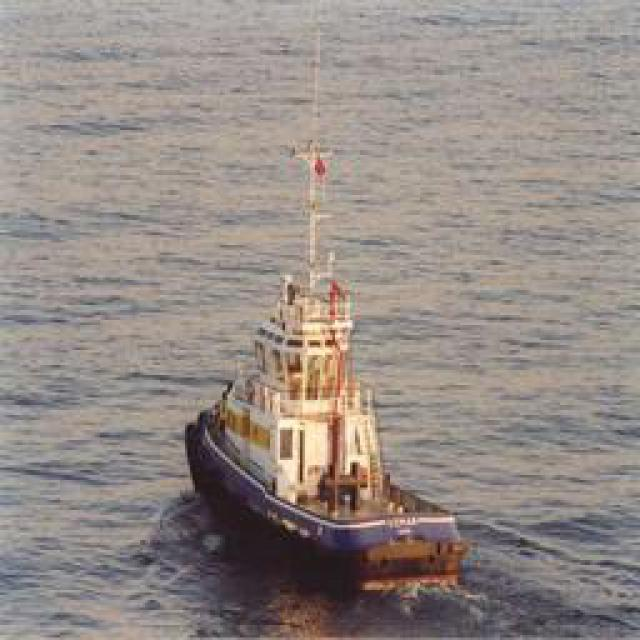Ship: (185, 139, 468, 589)
